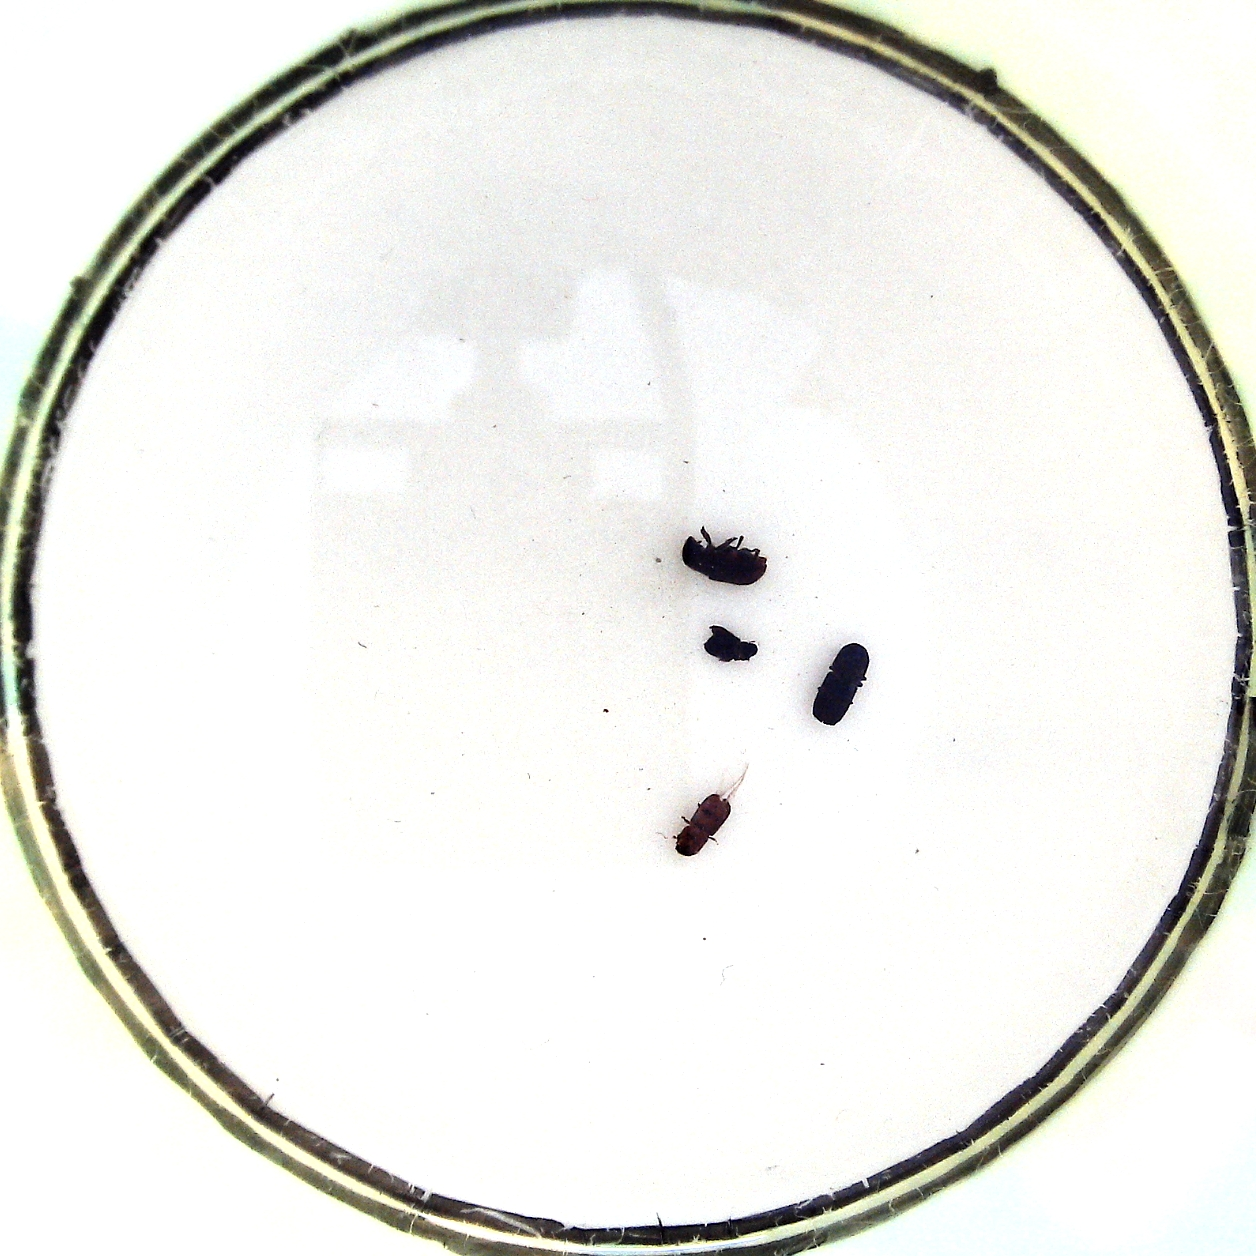Linnaeus: (807, 640, 874, 726)
acuminatus: (669, 783, 738, 859)
armandi: (677, 524, 771, 588)
coleoptera: (697, 619, 761, 667)
